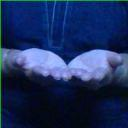hand: (15, 47, 71, 83), (68, 49, 123, 83)
